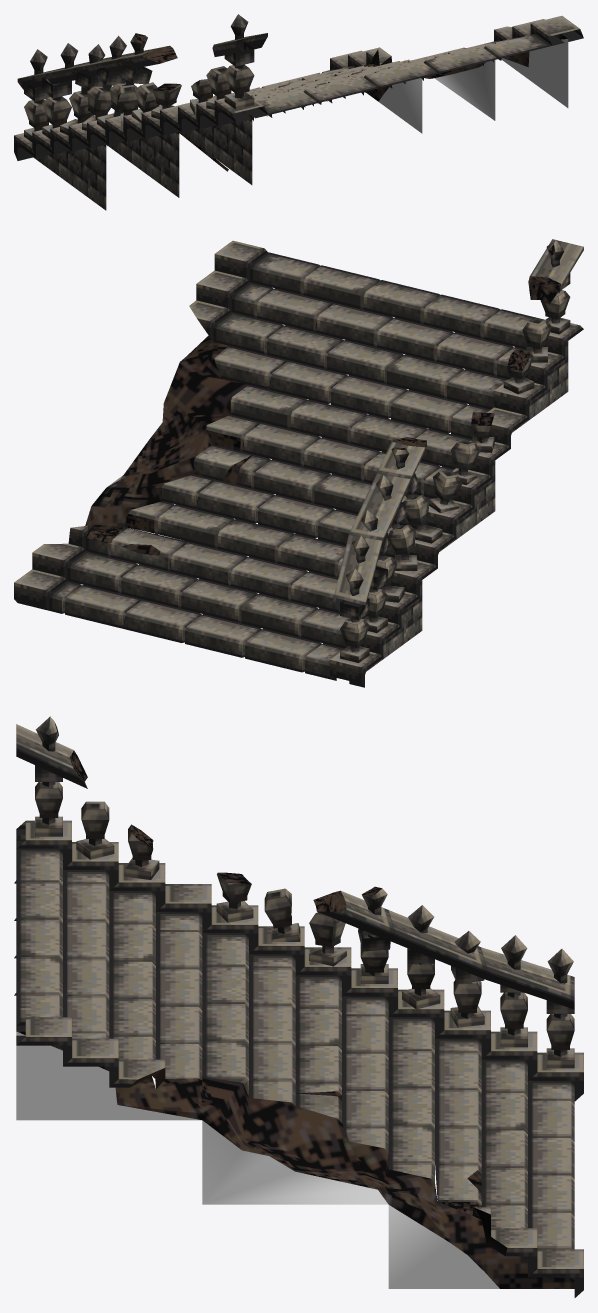
File: EnvMdrMD_Castle_A_Stairs_A_Loop_Broken_H3.FBX
The picture shows the model from 3 angles, top to bottom: view 1: azimuth 30°, elevation 25°; view 2: azimuth 150°, elevation 25°; view 3: azimuth 270°, elevation 25°; orthographic projection. The views are drawn at different scales.
Parts seen in each view (by area): view 1: EnvMdrMD_Castle_A_Stairs_A_Loop_Broken_H3; view 2: EnvMdrMD_Castle_A_Stairs_A_Loop_Broken_H3; view 3: EnvMdrMD_Castle_A_Stairs_A_Loop_Broken_H3.
Boxes of the visible parts, bbox=[...] form: EnvMdrMD_Castle_A_Stairs_A_Loop_Broken_H3: bbox=[14, 14, 583, 210]; EnvMdrMD_Castle_A_Stairs_A_Loop_Broken_H3: bbox=[14, 239, 583, 687]; EnvMdrMD_Castle_A_Stairs_A_Loop_Broken_H3: bbox=[14, 716, 583, 1297].
Size of the model in its own units: 550 by 445 by 612.
